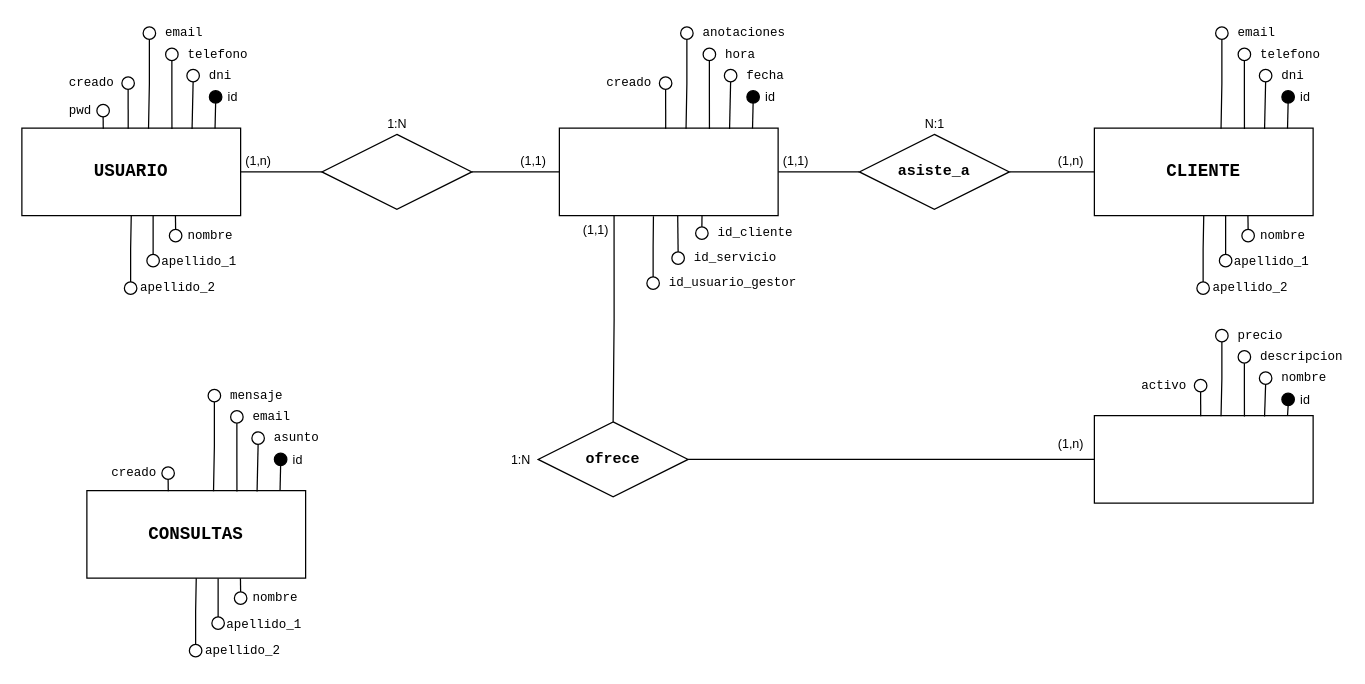
Image size: 1365x684. Some labels were removed from this diagram. The centre of each missing label's shape, as x and y in pixels:
"EVENTO" belongs at [668,171].
"gestiona" belongs at [396,171].
"SERVICIO" belongs at [1203,458].
